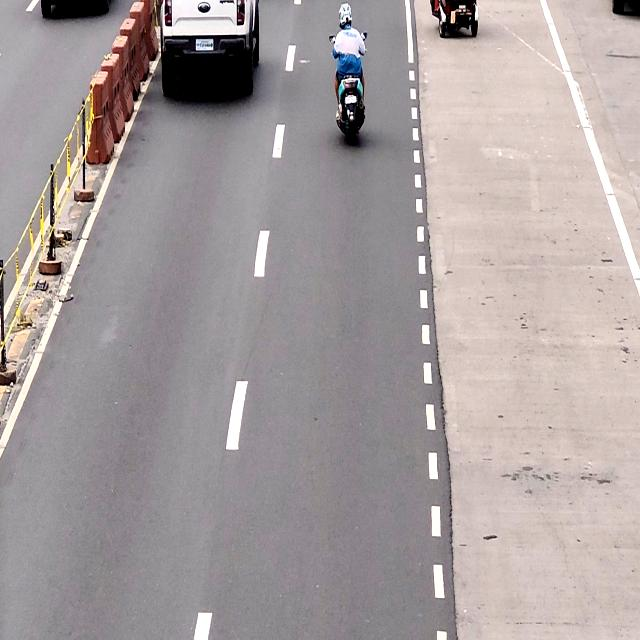Car: (159, 0, 260, 98)
License-Plate: (193, 39, 216, 54)
Motorcycle: (328, 0, 367, 138)
